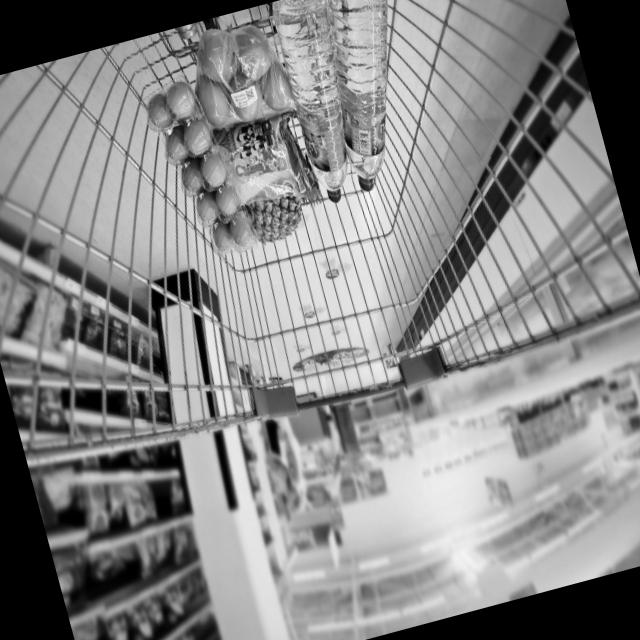dua: (243, 188, 318, 252)
tao: (183, 15, 299, 132)
trung: (142, 70, 256, 272)
